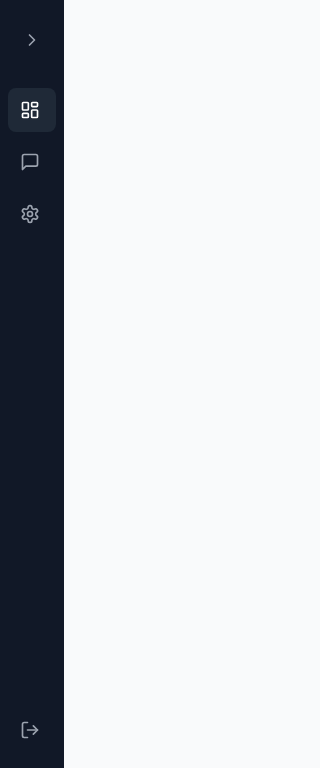
Test: Layout › deve renderizar todos os itens de navegação
The width and height of the screenshot is (320, 768).
Note: Expande sidebar para ver labels
Click the 1st button at (32, 40), box 8,16 -> 56,64
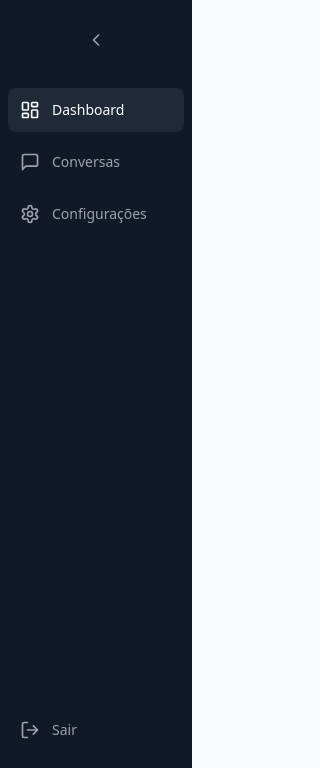
Result: the text "Dashboard" is shown at 52,100 -> 124,120
Result: the text "Conversas" is shown at 52,152 -> 120,172
Result: the text "Configurações" is shown at 52,204 -> 147,224
